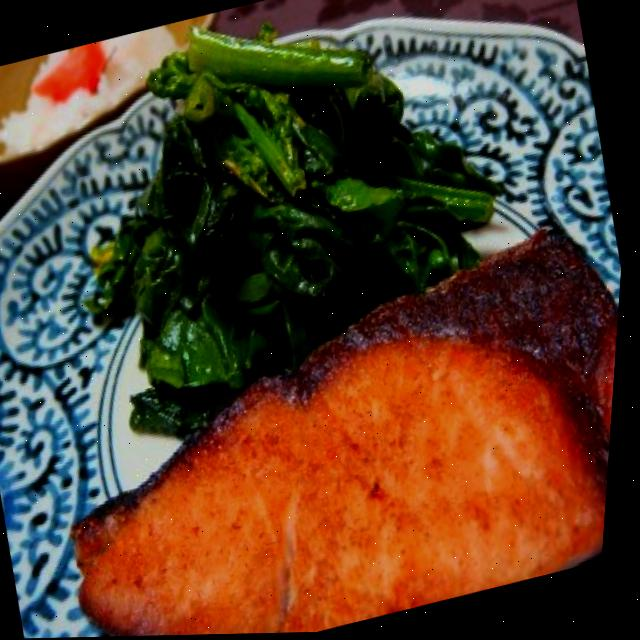蔬菜料理: (0, 0, 577, 525)
